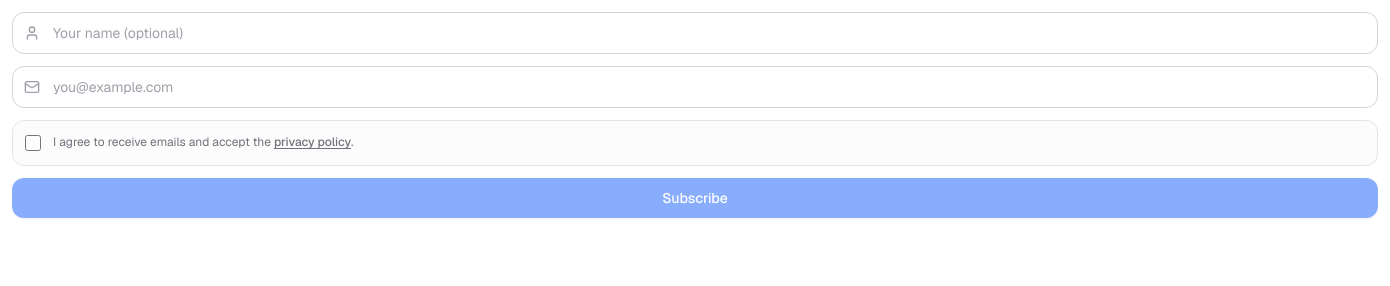
it: NewsletterSignupForm › form submission › shows network error message on fetch failure
In the field with placeholder "Your name (optional)": (695, 33) [12,12,1378,54], type "John"
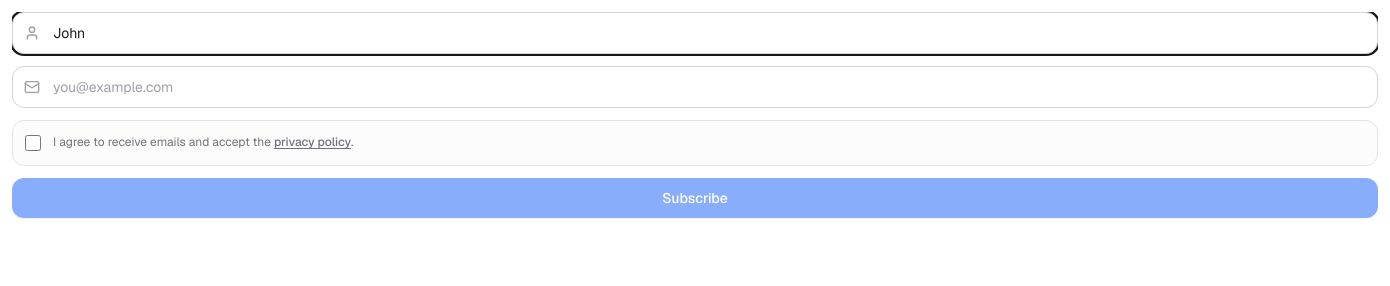
In the field with placeholder "you@example.com": (695, 87) [12,66,1378,108], type "john@example.com"
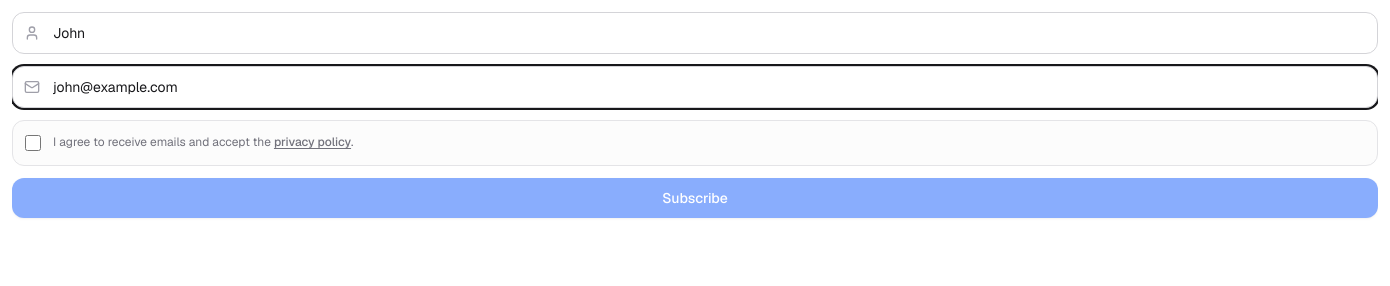
Click the checkbox: (33, 143) [25,135,41,151]
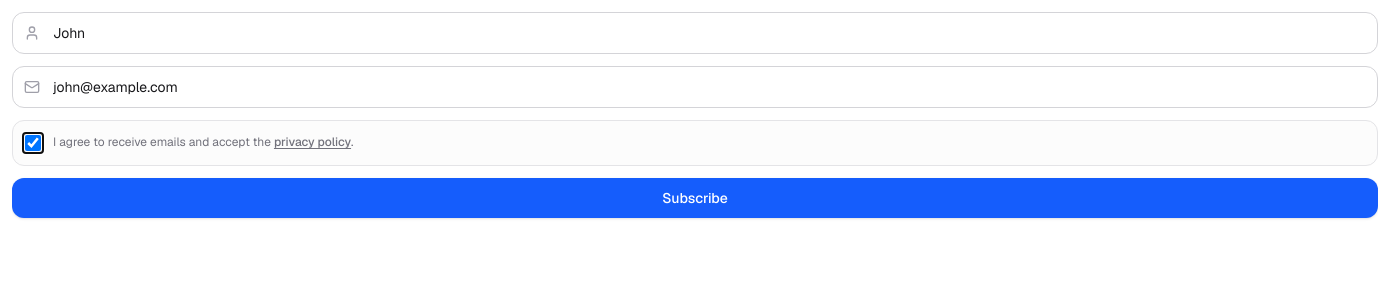
Click the button "Subscribe": (695, 198) [12,178,1378,218]
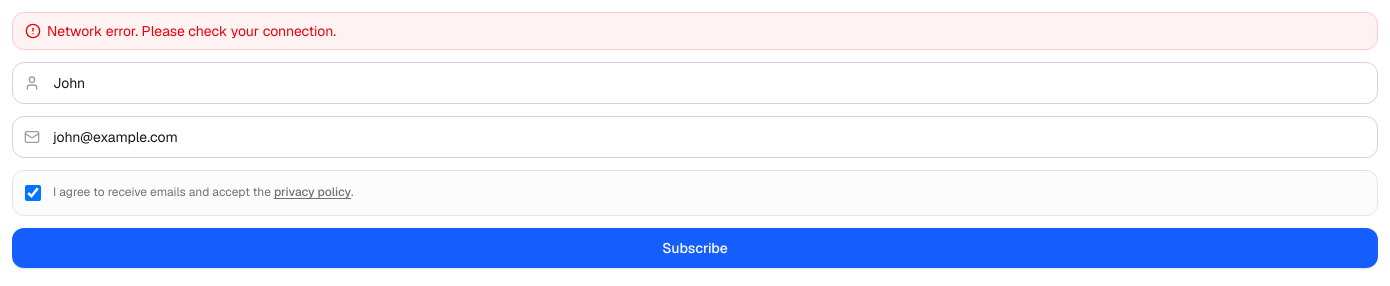
Now the text "Network error. Please check your connection." is shown, box [12,12,1378,50]
